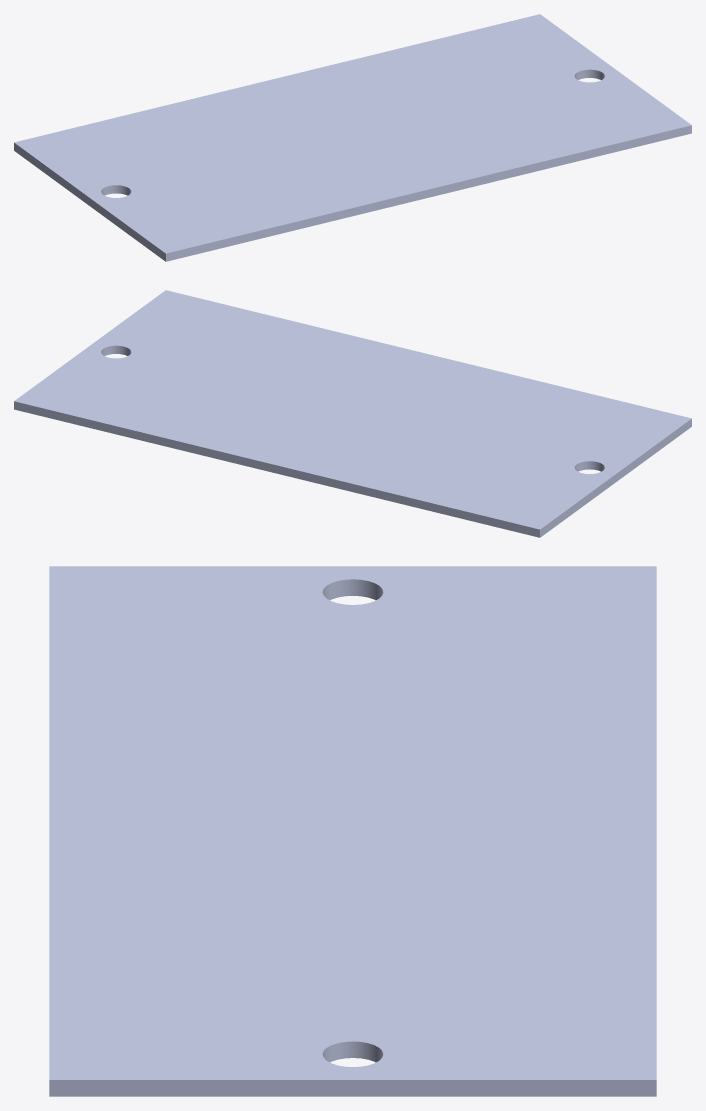
File: suporteseguidordelinha.dae
3 views of the same model, one above another, from view 1: azimuth 30°, elevation 25°; view 2: azimuth 150°, elevation 25°; view 3: azimuth 270°, elevation 25° (orthographic). The views are drawn at different scales.
Parts seen in each view (by area): view 1: node_a61cdd7c_a4b8_407b_ab35_dd1535c6b0d9_mesh0; view 2: node_a61cdd7c_a4b8_407b_ab35_dd1535c6b0d9_mesh0; view 3: node_a61cdd7c_a4b8_407b_ab35_dd1535c6b0d9_mesh0.
Boxes of the visible parts, box(x1,y1,x2,y2) form: node_a61cdd7c_a4b8_407b_ab35_dd1535c6b0d9_mesh0: box(14, 14, 691, 261); node_a61cdd7c_a4b8_407b_ab35_dd1535c6b0d9_mesh0: box(14, 290, 691, 537); node_a61cdd7c_a4b8_407b_ab35_dd1535c6b0d9_mesh0: box(49, 566, 656, 1096).
Bounding box in the file's own units: 0.1 × 0.0015 × 0.05.
